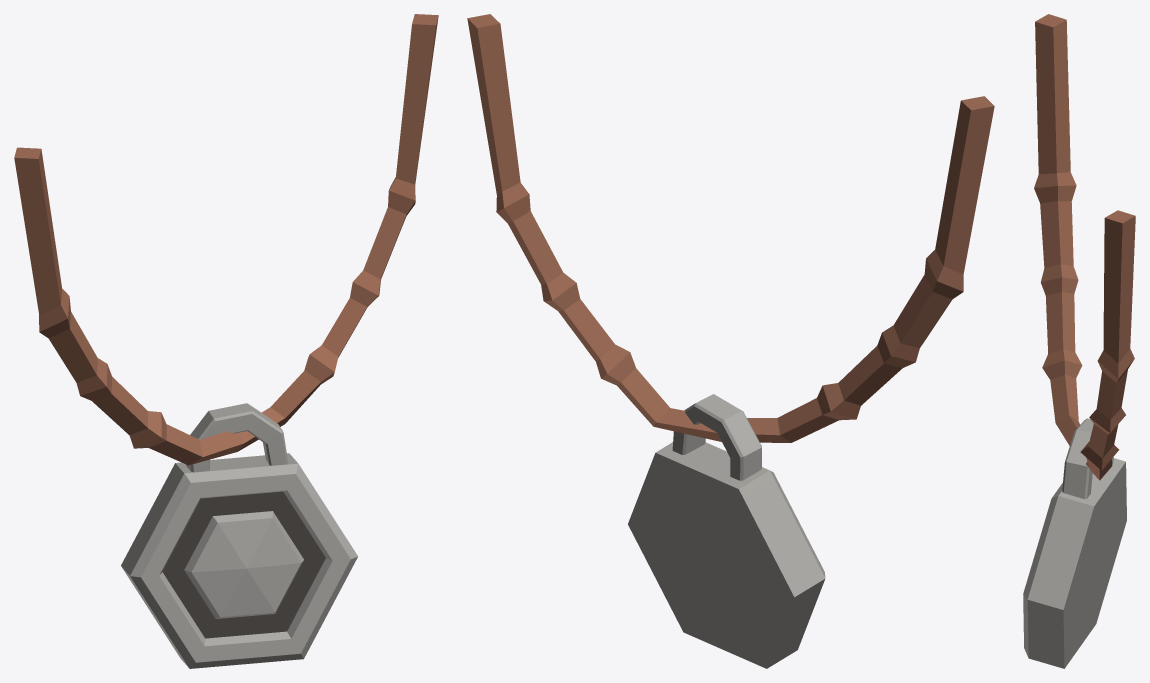
File: amuletMedallion1.fbx
The picture shows the model from 3 angles, left to right: view 1: azimuth 30°, elevation 25°; view 2: azimuth 150°, elevation 25°; view 3: azimuth 270°, elevation 25°; orthographic projection. The views are drawn at different scales.
Parts seen in each view (by area): view 1: amuletMedallion1; view 2: amuletMedallion1; view 3: amuletMedallion1.
Boxes of the visible parts, x1,y1,x2,y2 form: amuletMedallion1: (14, 14, 438, 668); amuletMedallion1: (467, 14, 994, 668); amuletMedallion1: (1023, 14, 1135, 668).
Bounding box in the file's own units: 1.84 × 2.15 × 0.4183.
1 material, 1 textured.
